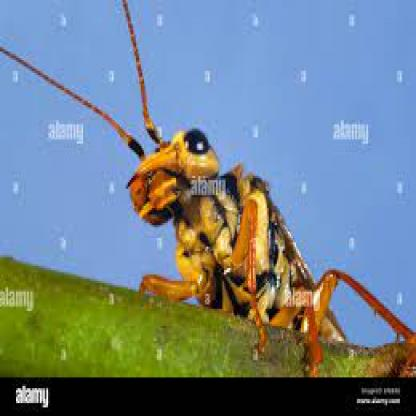sawfly: (0, 0, 416, 371)
